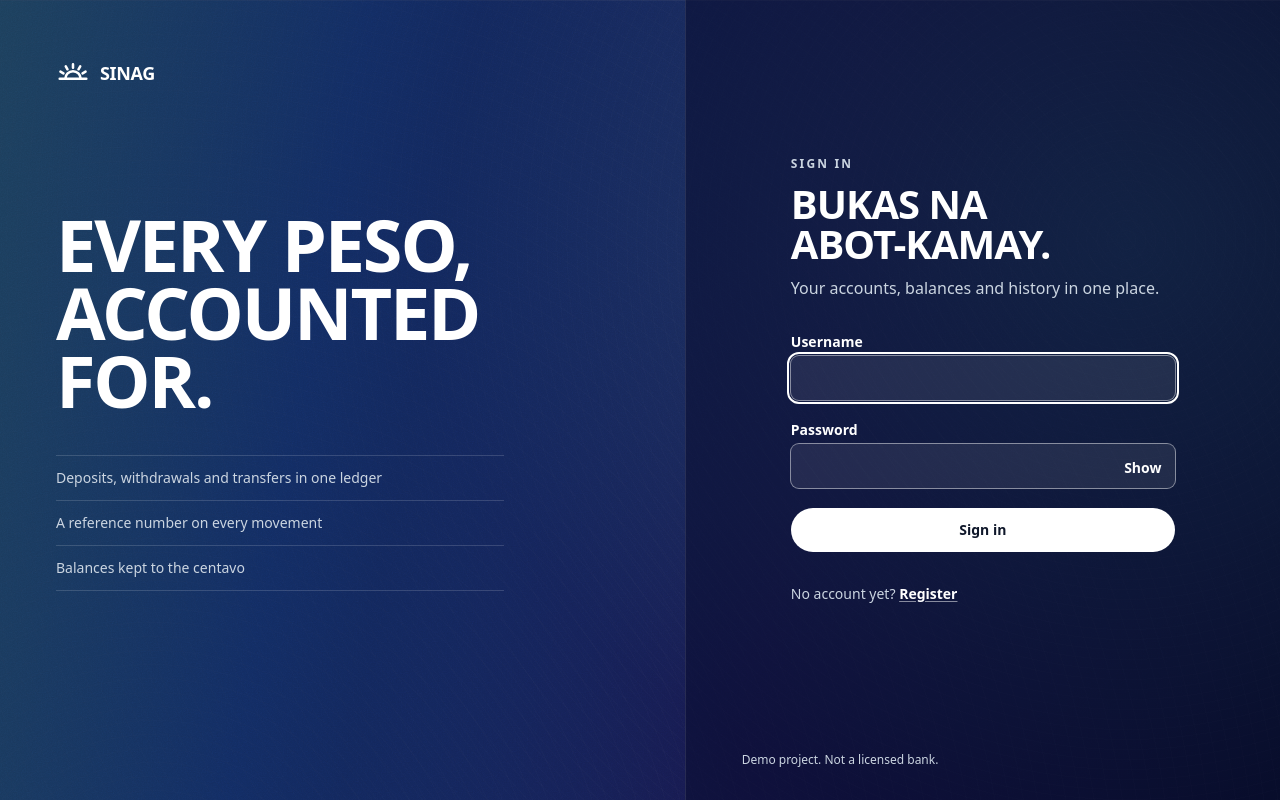
Scenario: LoginPage › reports a rejected login, clears the password, and does not flag the cleared field
In the field labelled "Username": (983, 378) [791,356,1175,400], type "alice"
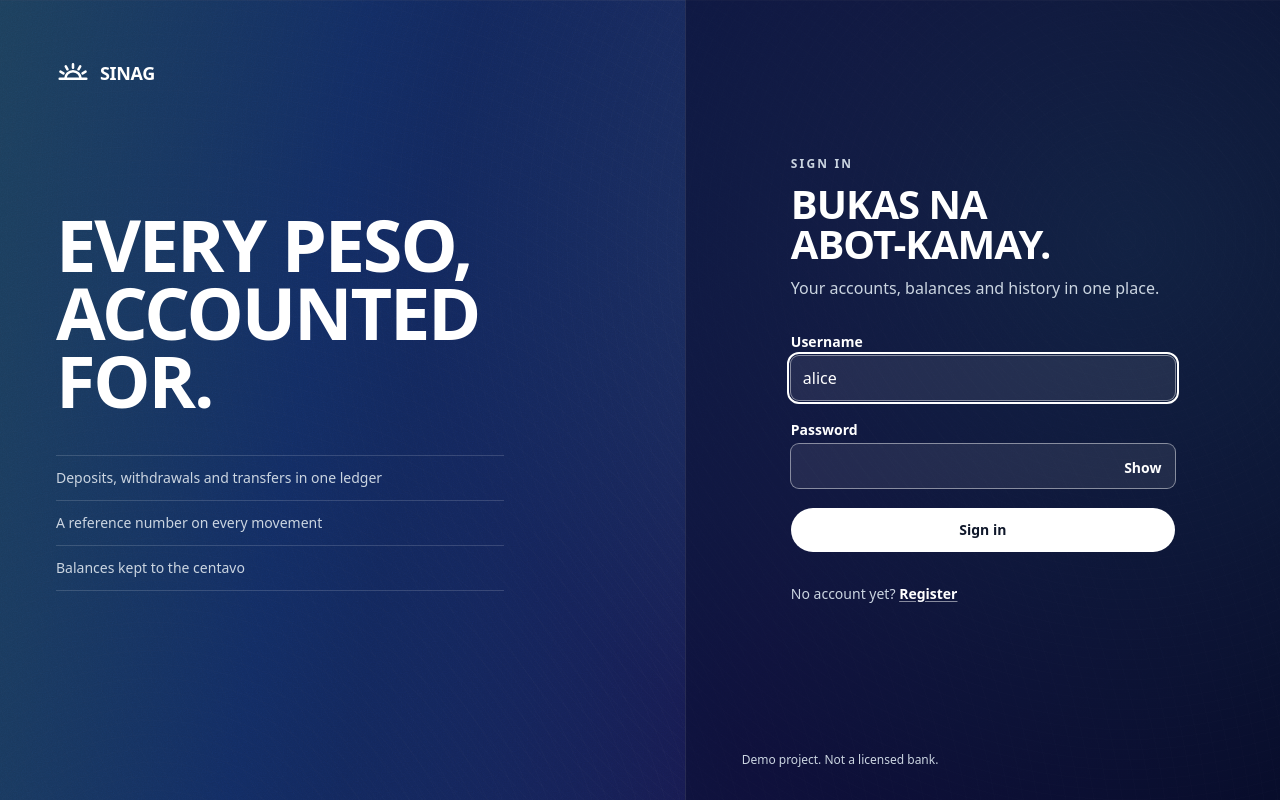
In the password field labelled "Password": (983, 466) [791,444,1175,488], type "wrong-password"
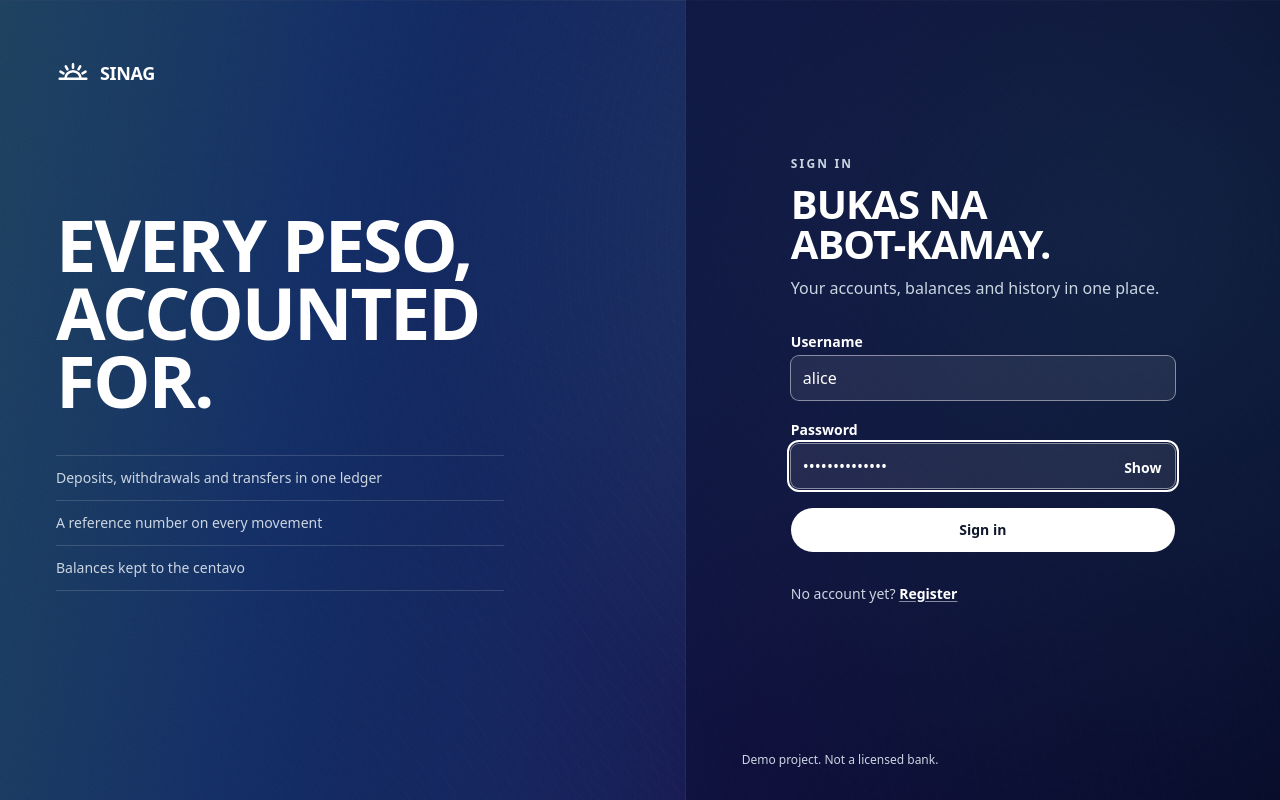
Click the button "Sign in": (983, 530) [791,508,1175,552]
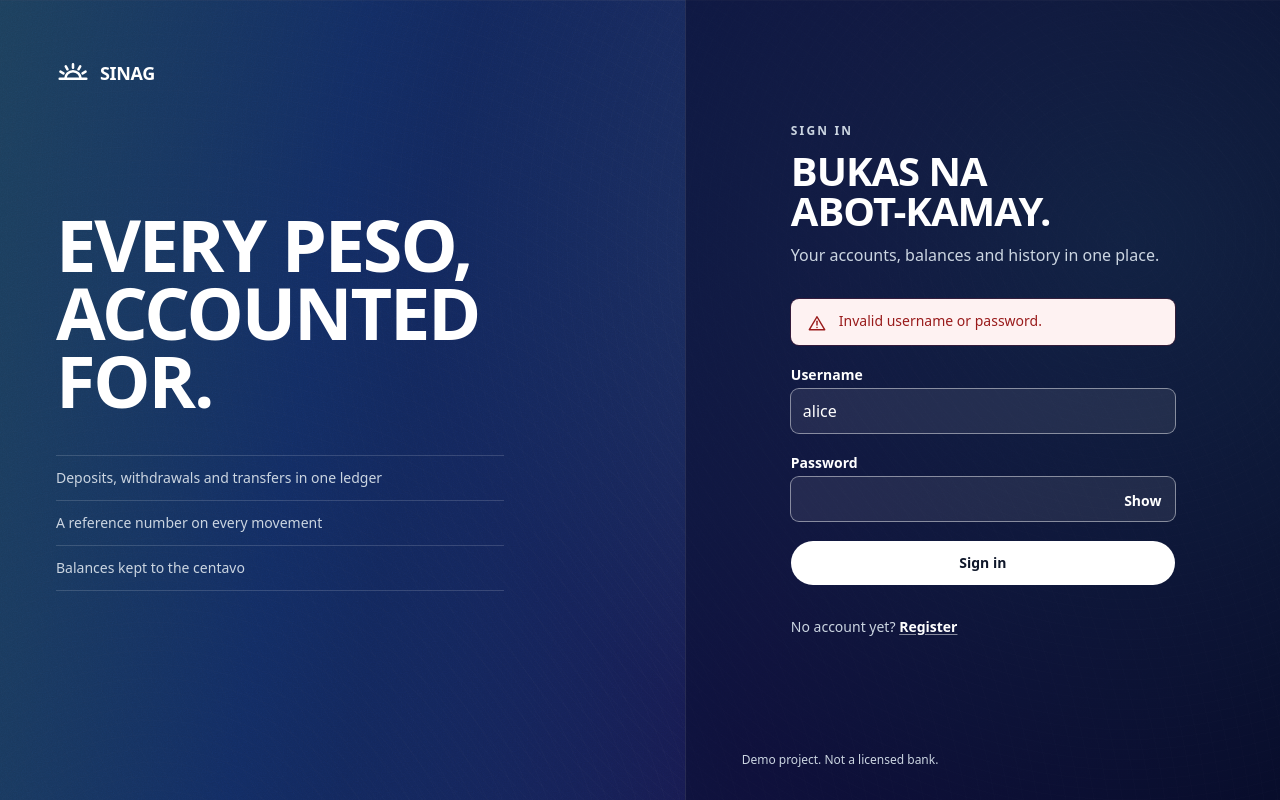
Check: the message reads "Invalid username or password.", box [839,311,1042,330]
Check: the password field labelled "Password" is empty, box [791,477,1175,521]
Check: the number of messages is 1, box [791,299,1175,345]
